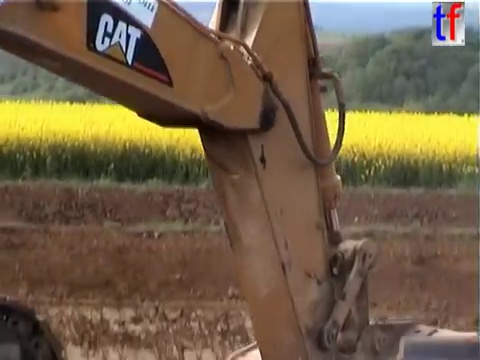excavator: (1, 1, 480, 360)
